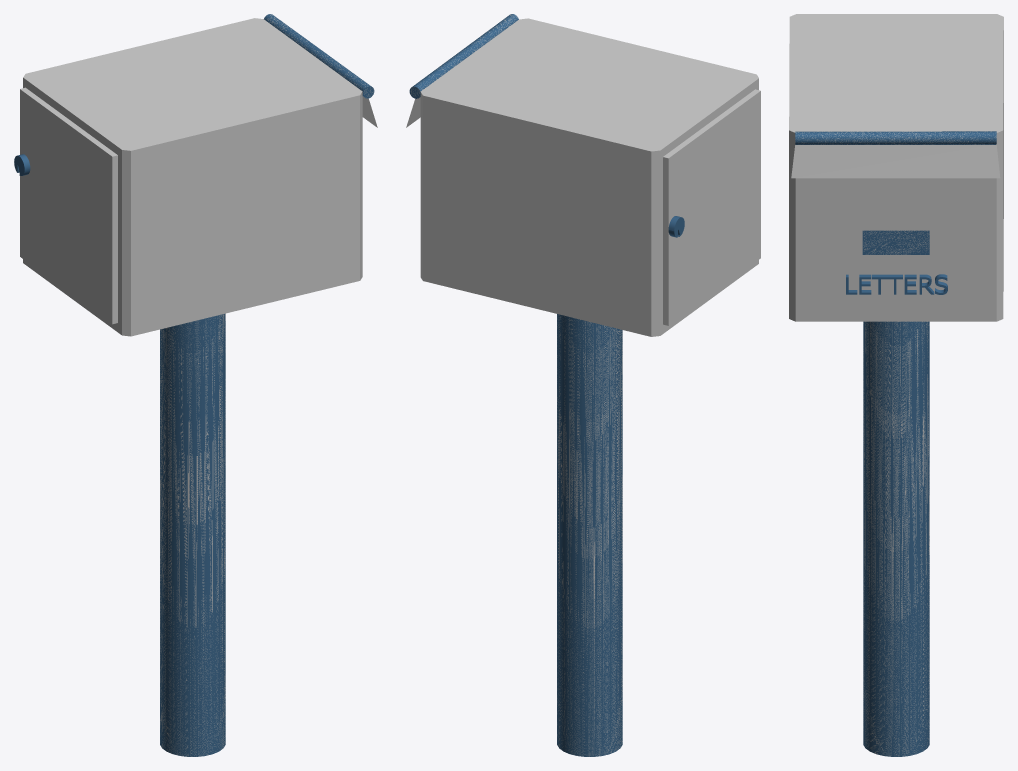
3 renders of one model, left to right at view 1: azimuth 30°, elevation 25°; view 2: azimuth 150°, elevation 25°; view 3: azimuth 270°, elevation 25°, orthographic.
Visible parts, largest first — view 1: mesh14_mesh14-geometry; view 2: mesh14_mesh14-geometry; view 3: mesh14_mesh14-geometry, mesh15_mesh15-geometry.
Boxes of the visible parts, x1,y1,x2,y2 form: mesh14_mesh14-geometry: (14, 14, 374, 756); mesh14_mesh14-geometry: (409, 14, 760, 756); mesh14_mesh14-geometry: (789, 14, 1003, 756); mesh15_mesh15-geometry: (791, 144, 1000, 178).
Bounding box in the file's own units: 0.373 × 0.8913 × 0.2578.
